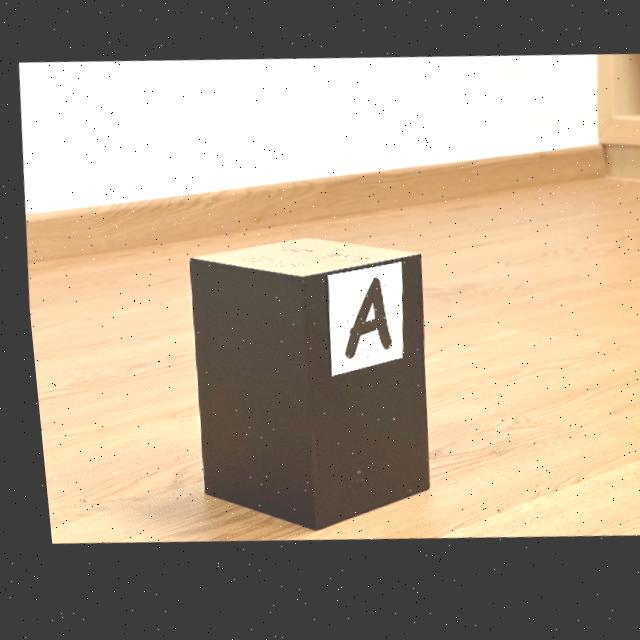A: (338, 283, 384, 363)
